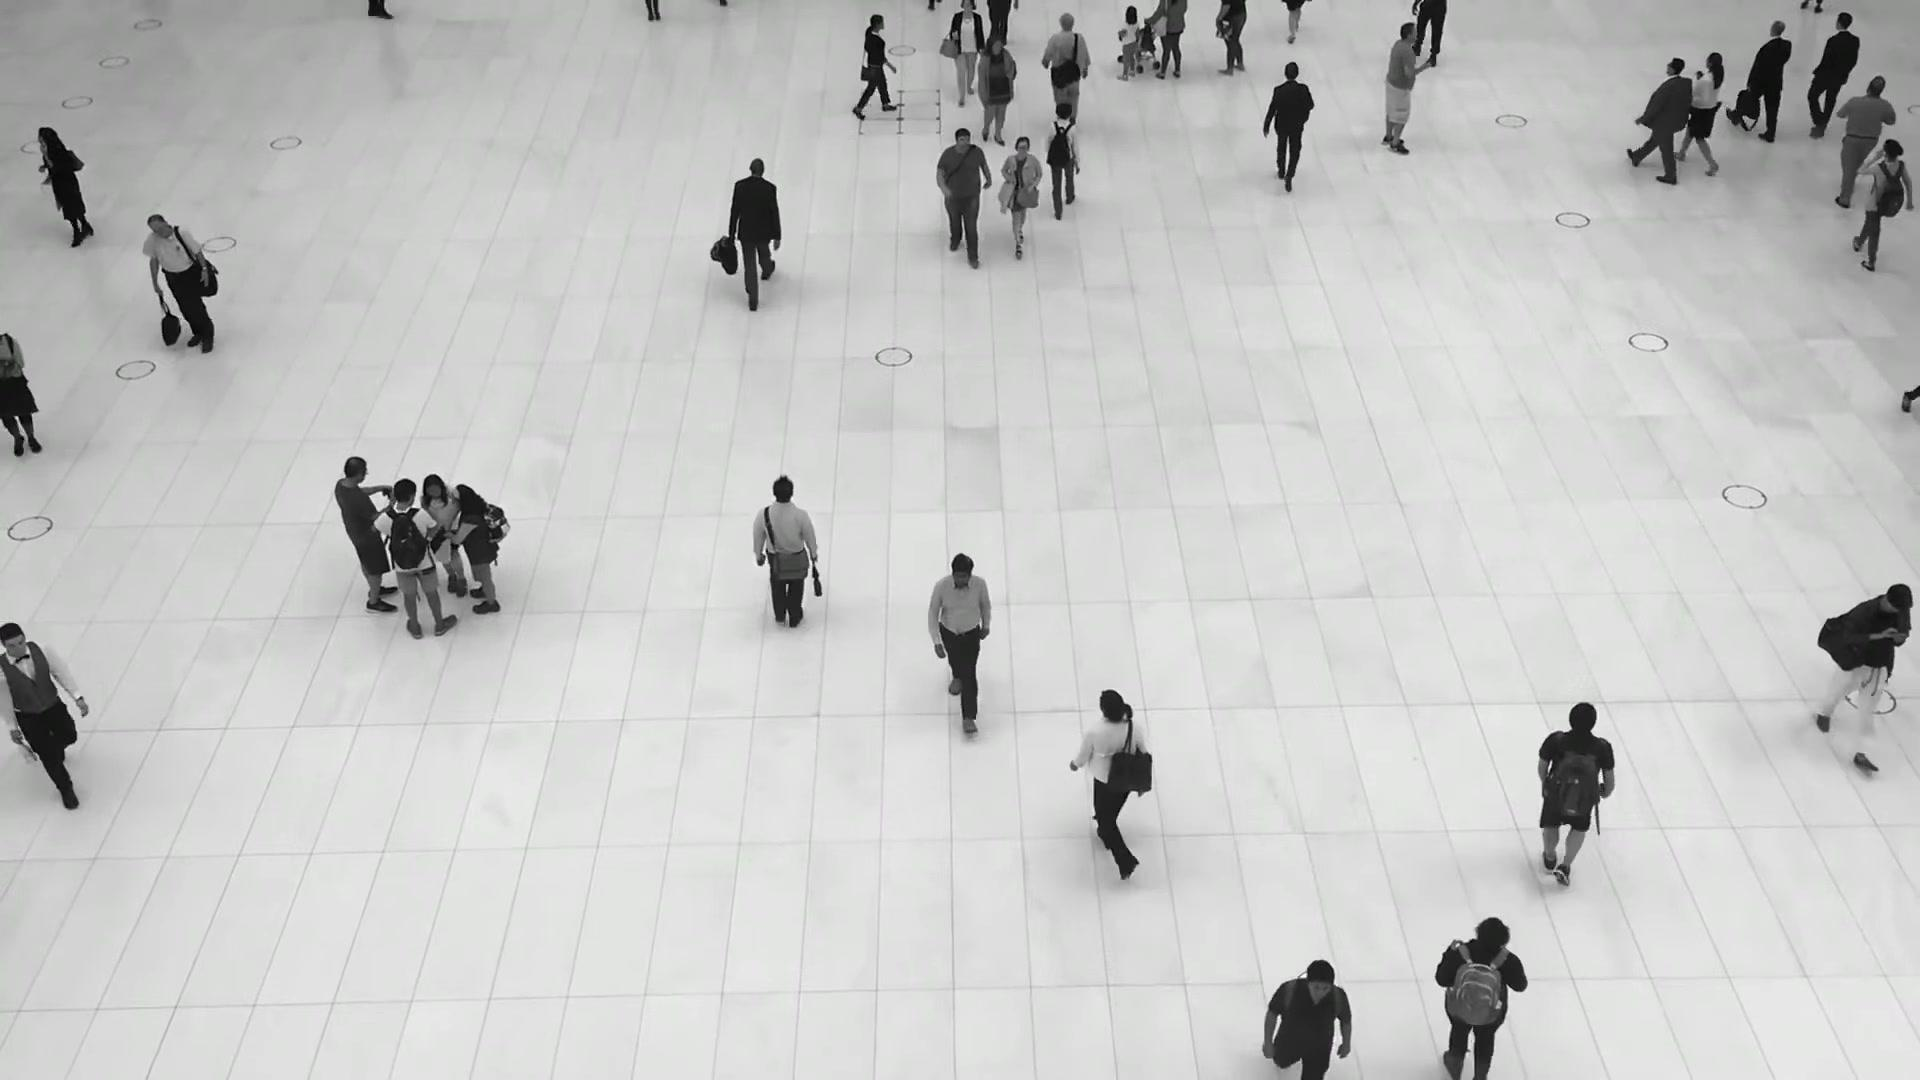person: (0, 622, 99, 815), (1817, 582, 1914, 770), (1064, 690, 1147, 884), (1434, 915, 1527, 1080), (1536, 701, 1616, 893), (378, 477, 460, 635), (926, 552, 994, 735), (1259, 960, 1354, 1080), (751, 475, 821, 630), (142, 213, 217, 352), (333, 455, 399, 609), (1831, 73, 1896, 205), (934, 126, 993, 269), (729, 156, 783, 309), (1628, 55, 1692, 183), (1726, 19, 1792, 141), (1852, 137, 1911, 271), (36, 126, 95, 248), (449, 482, 502, 614), (1263, 62, 1316, 195), (1805, 12, 1859, 136), (1671, 53, 1723, 177), (1380, 22, 1426, 155), (421, 469, 469, 592), (1041, 12, 1091, 121), (998, 135, 1042, 259), (1043, 101, 1083, 219), (976, 35, 1016, 147), (858, 13, 899, 116), (947, 0, 985, 105), (1115, 5, 1139, 81)
